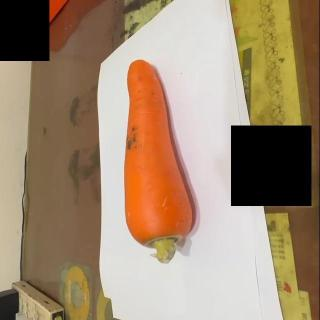carrot: (122, 57, 194, 268)
